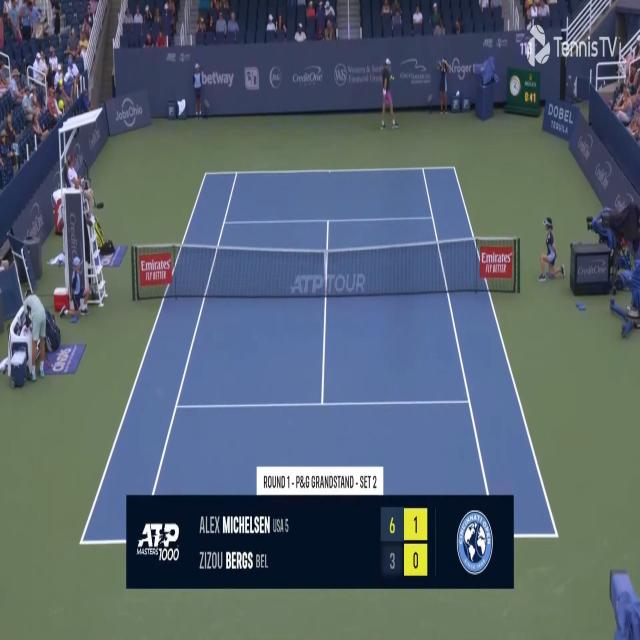tennis-player: (378, 55, 399, 132)
